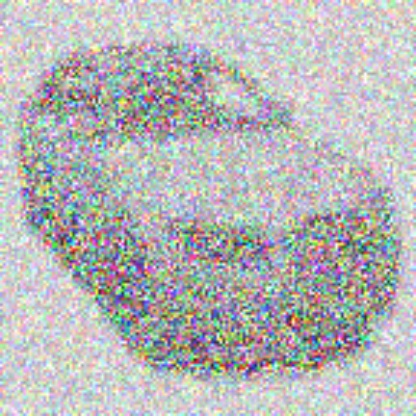Vehicle: (19, 47, 400, 364)
